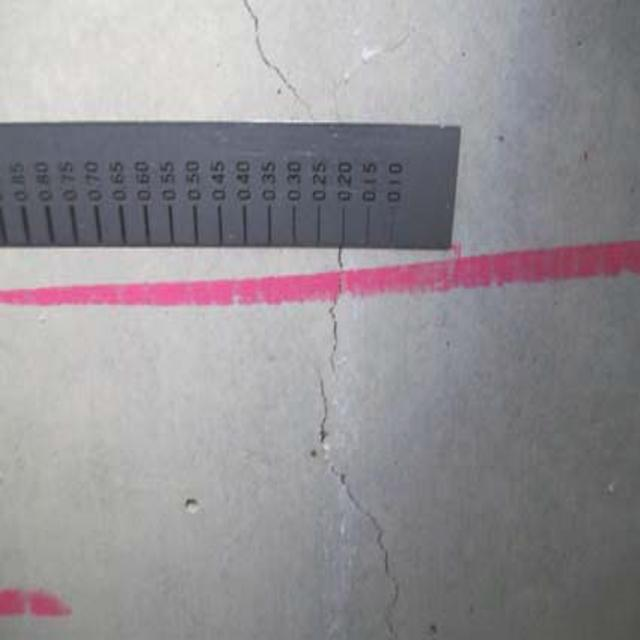crack: (314, 252, 413, 637), (233, 5, 316, 134)
